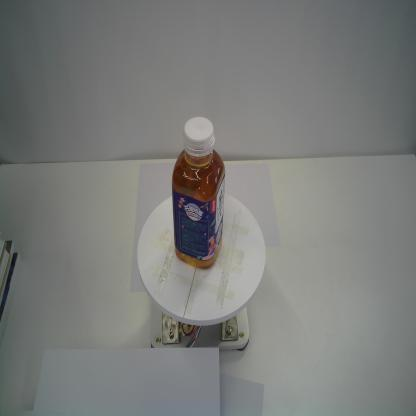Drink: (171, 116, 226, 269)
